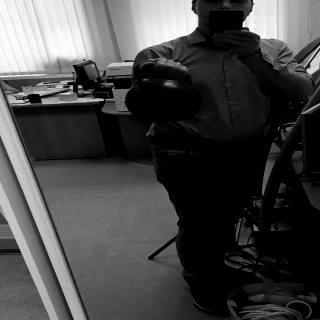kettlebell: (122, 63, 196, 125)
